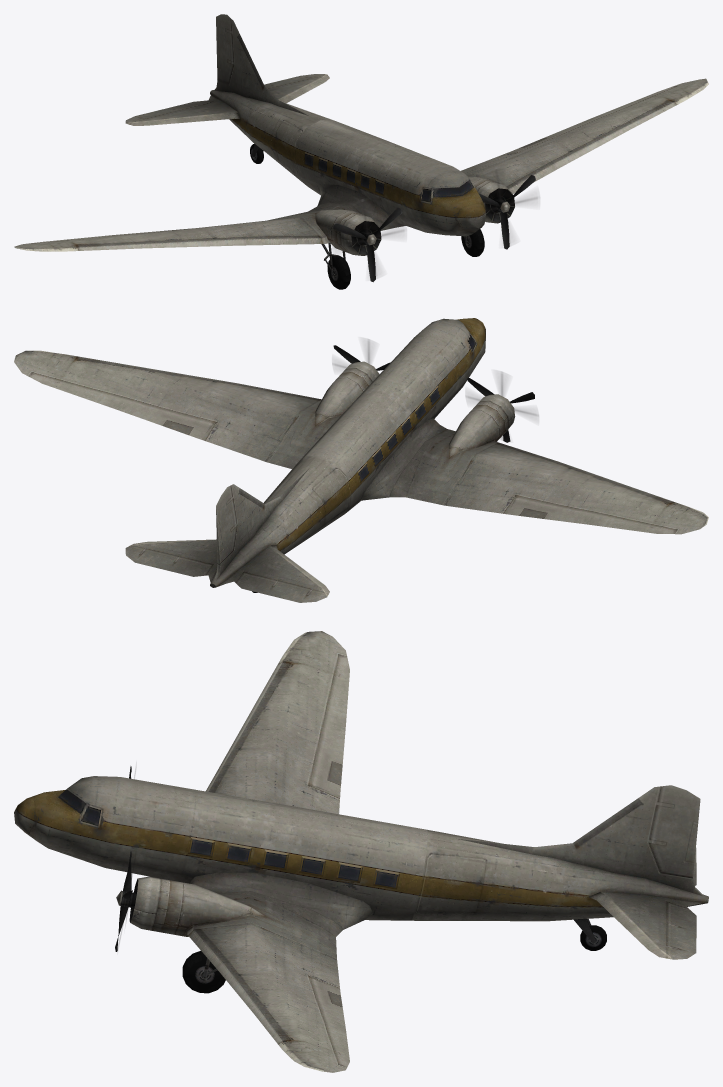
File: SDC3.glb
3 renders of one model, top to bottom at view 1: azimuth 30°, elevation 25°; view 2: azimuth 150°, elevation 25°; view 3: azimuth 270°, elevation 25°, orthographic. The views are drawn at different scales.
Parts seen in each view (by area): view 1: _SDC3; view 2: _SDC3; view 3: _SDC3.
Boxes of the visible parts, <box> form: _SDC3: <box>14,14,708,289</box>; _SDC3: <box>14,318,708,602</box>; _SDC3: <box>14,631,708,1072</box>.
Bounding box in the file's own units: 29.44 × 5.27 × 19.67.
3 materials, 3 textured.
